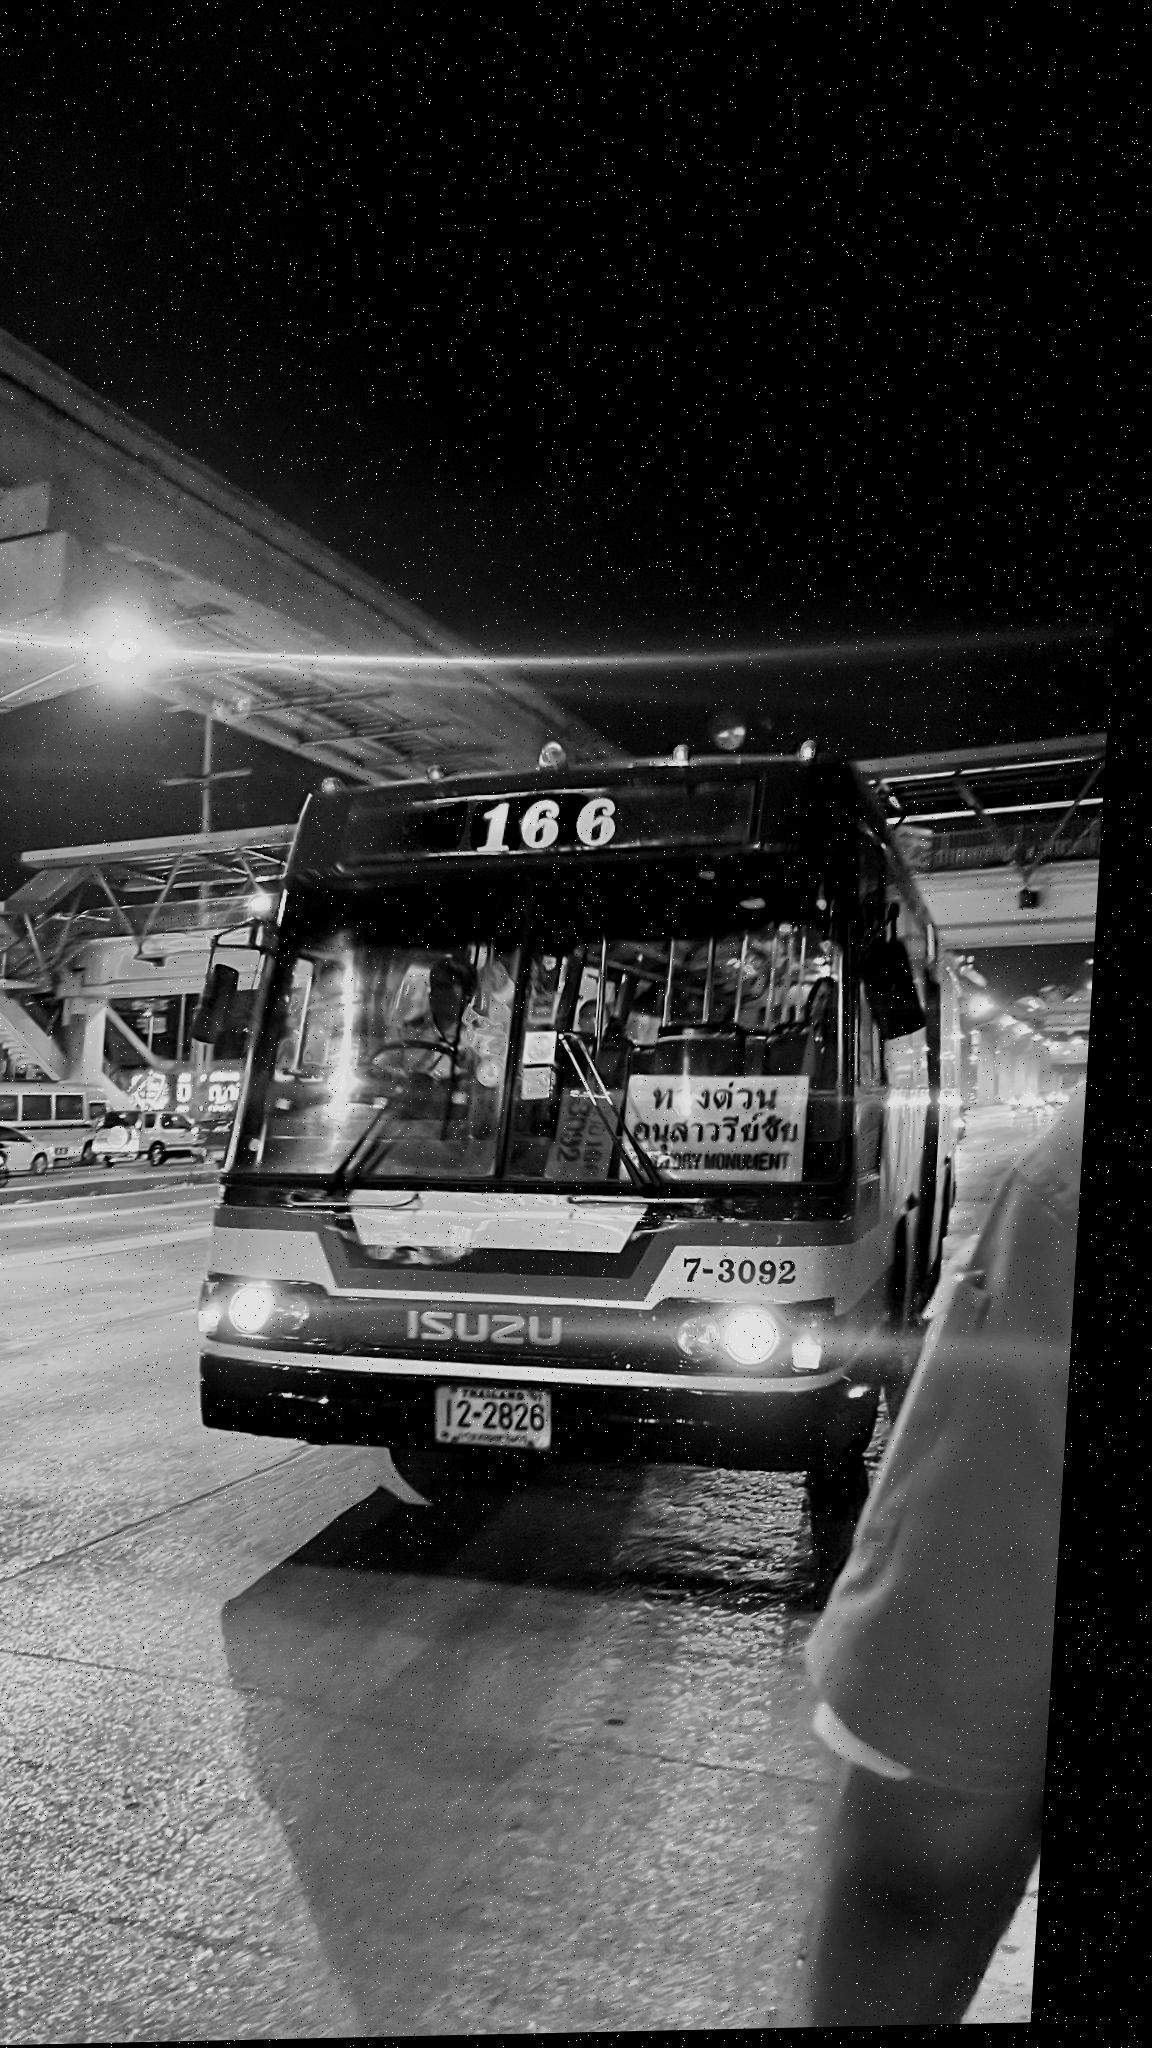BMTA-bus: (212, 751, 961, 1483)
Bus Line Number: (478, 796, 637, 855)
Bus Side Number: (688, 1245, 826, 1303)
Destination Sign: (632, 1070, 824, 1197)
